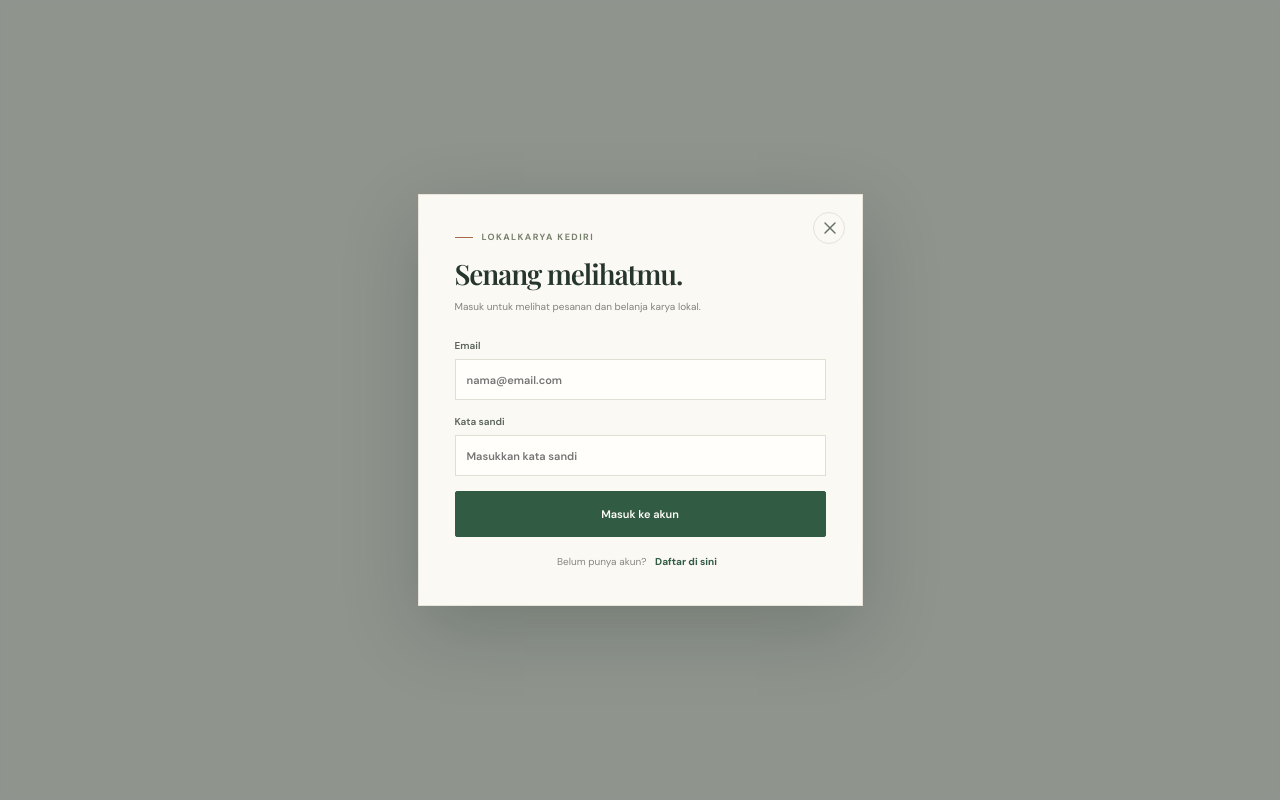
Scenario: login form › shows the server error when login fails
Step 1. Type "buyer@example.com" into the field labelled "Email" → (640,380), box x1=454 y1=359 x2=826 y2=400
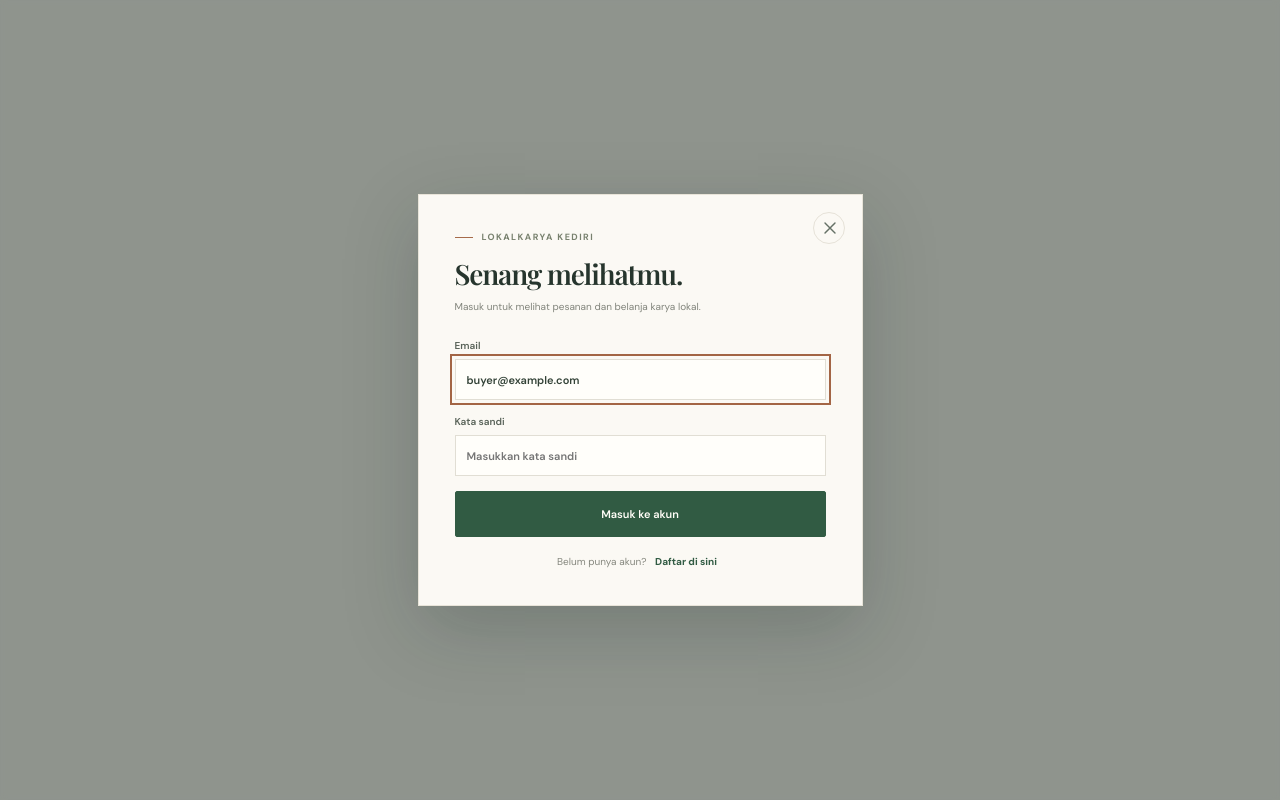
Step 2. Type "wrong-password" into the password field labelled "Kata sandi" → (640,456), box x1=454 y1=435 x2=826 y2=476
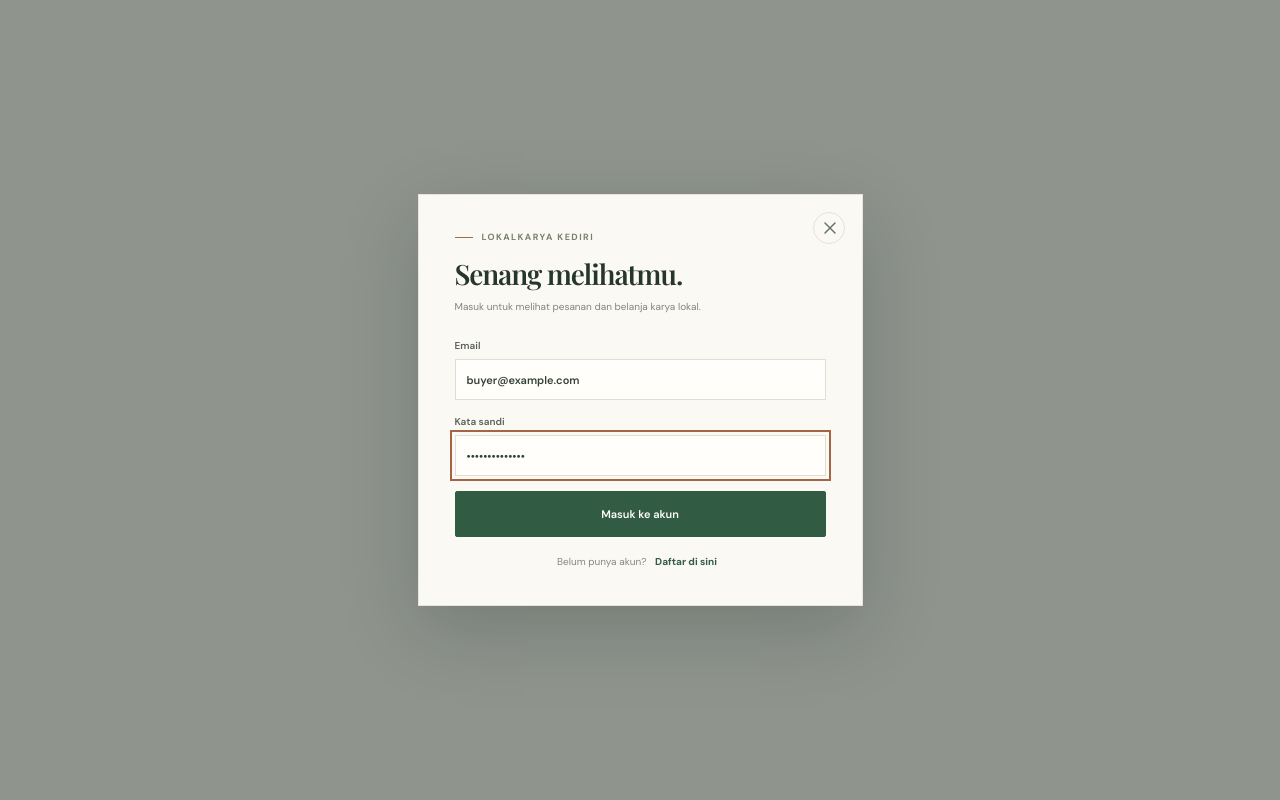
Step 3. Click the button "Masuk ke akun" → (640,514), box x1=454 y1=491 x2=826 y2=537
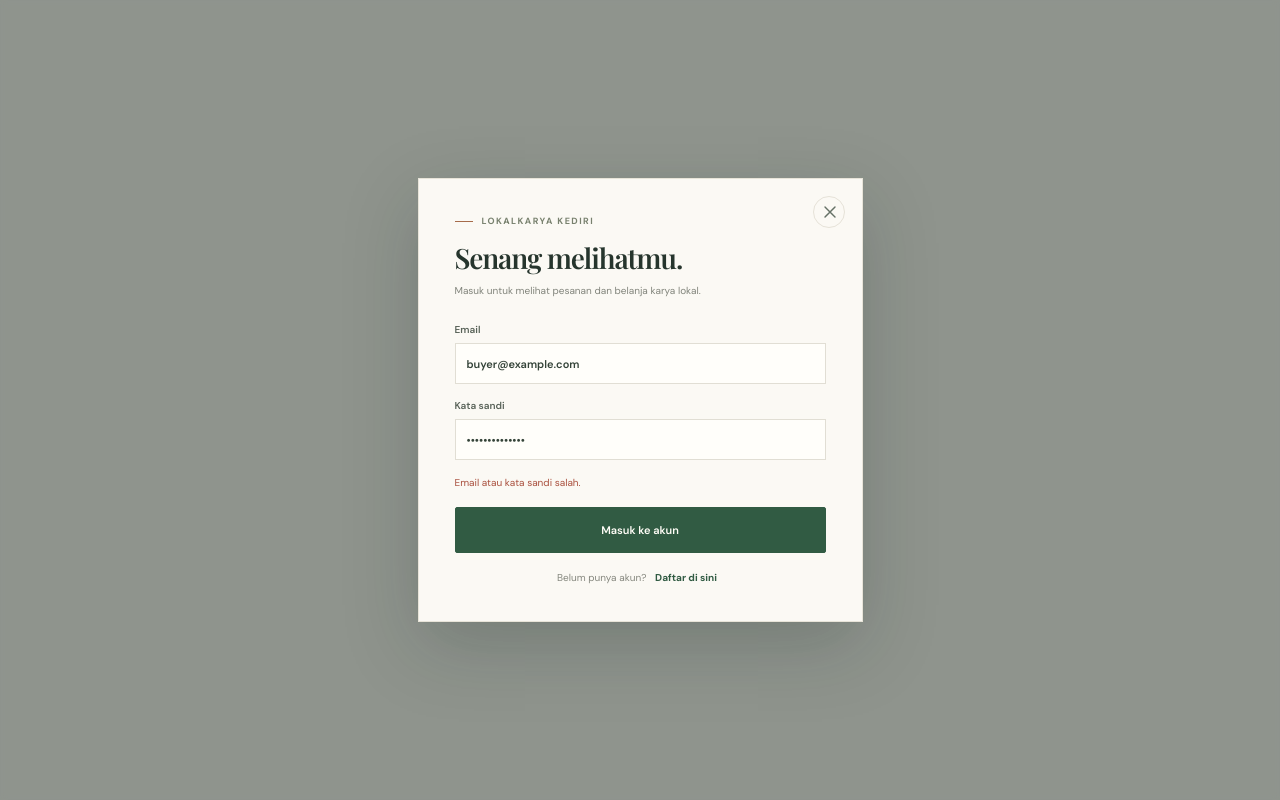
Check: the message reads "Email atau kata sandi salah.", box x1=454 y1=476 x2=581 y2=489
